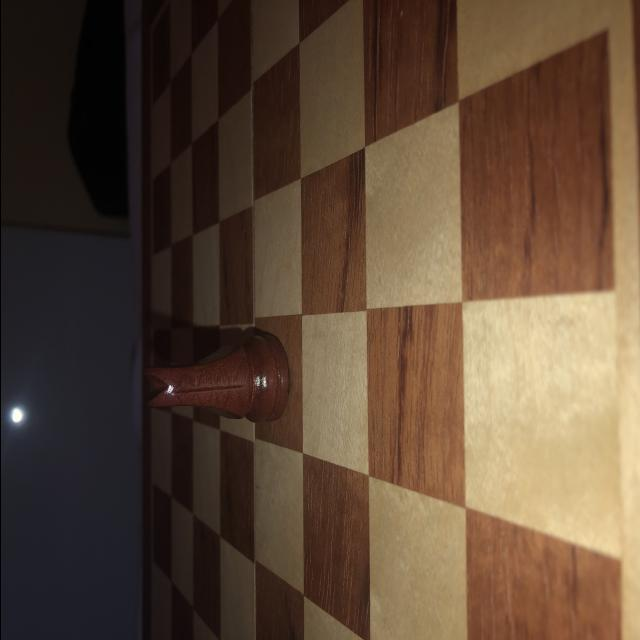black_knight: (140, 331, 292, 425)
